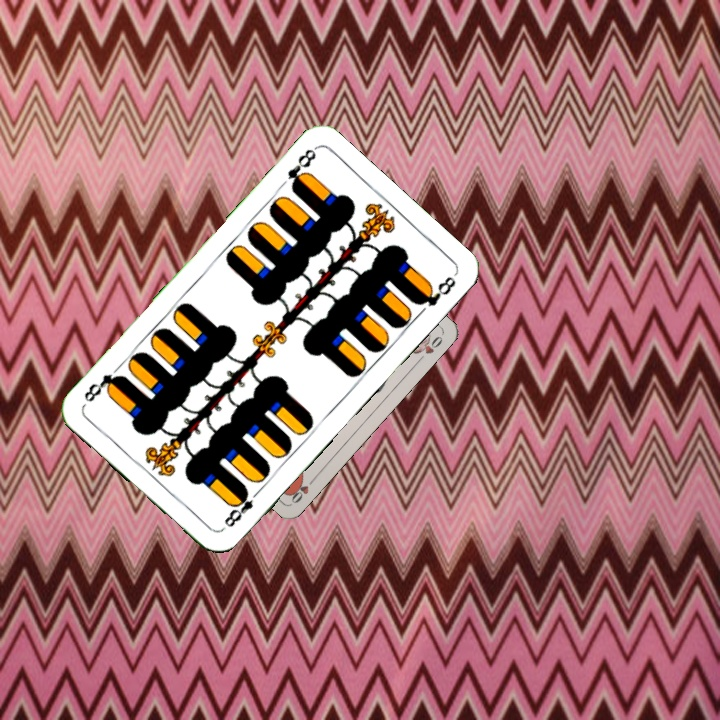E8: (220, 484, 263, 530), (283, 144, 319, 194)
HO: (286, 472, 319, 506)
